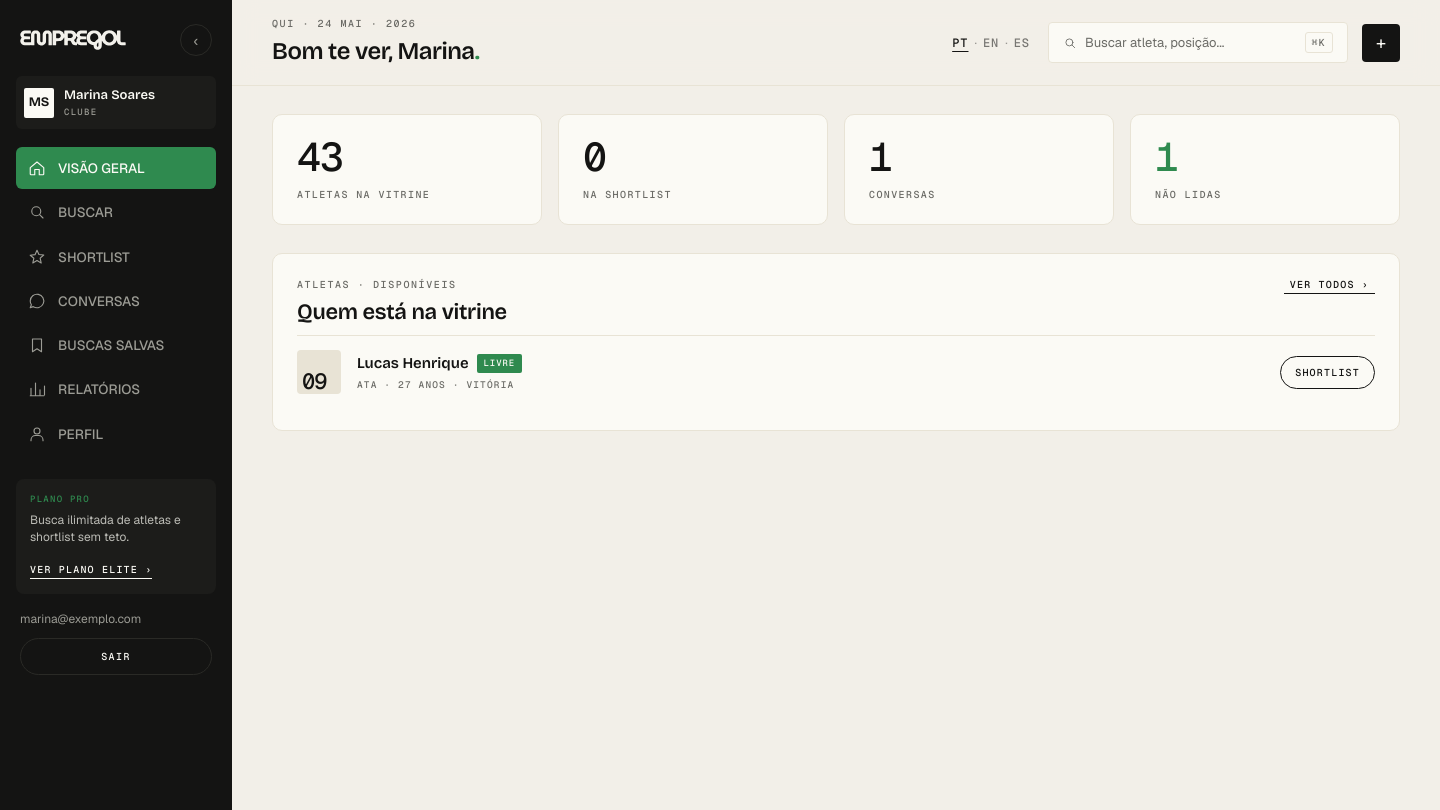
Test: DashboardPage › fecha o perfil pelo Esc
Click the button named "Abrir o perfil de Lucas Henrique" at {"x": 319, "y": 372}, box [297, 350, 1264, 394]
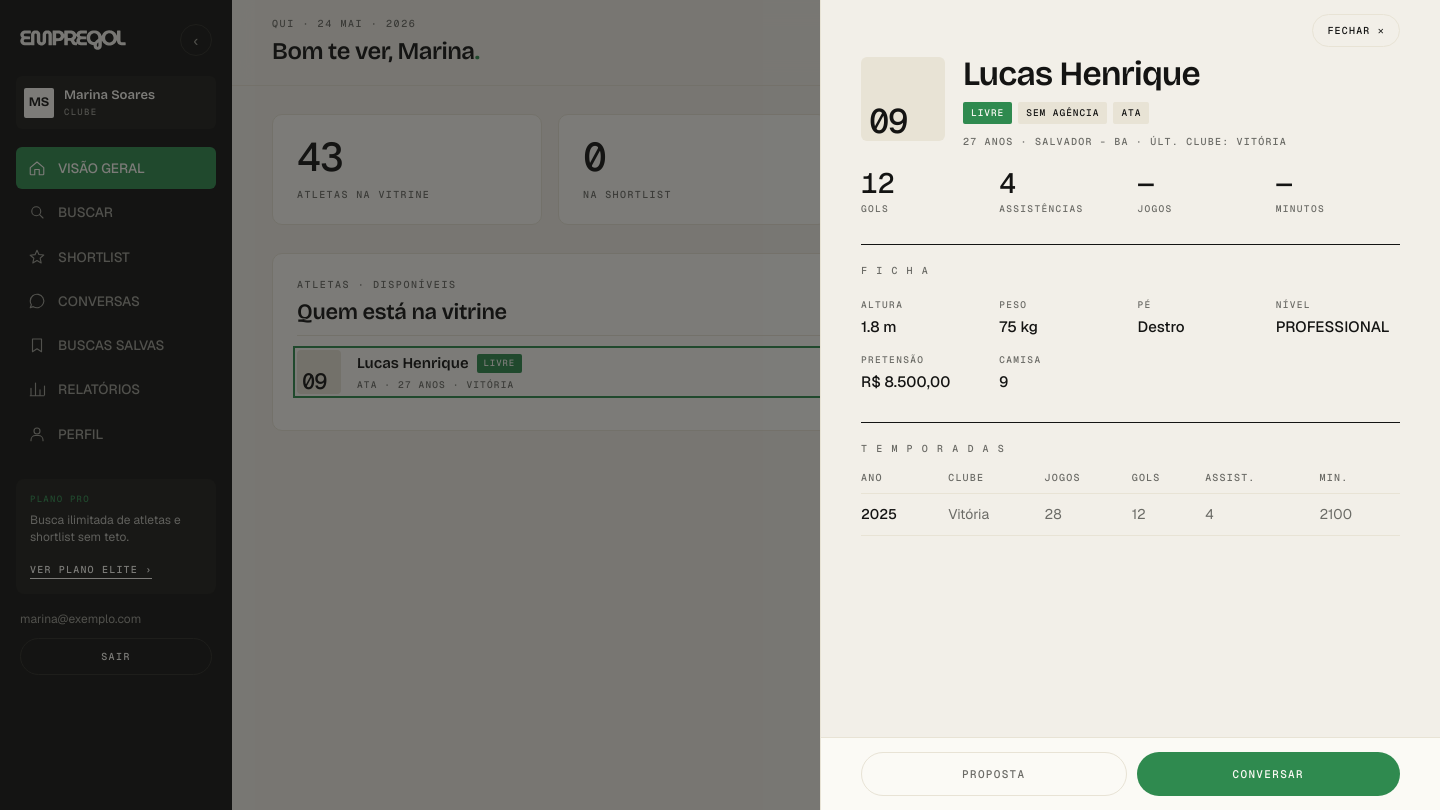
Now the dialog is shown
Press Escape
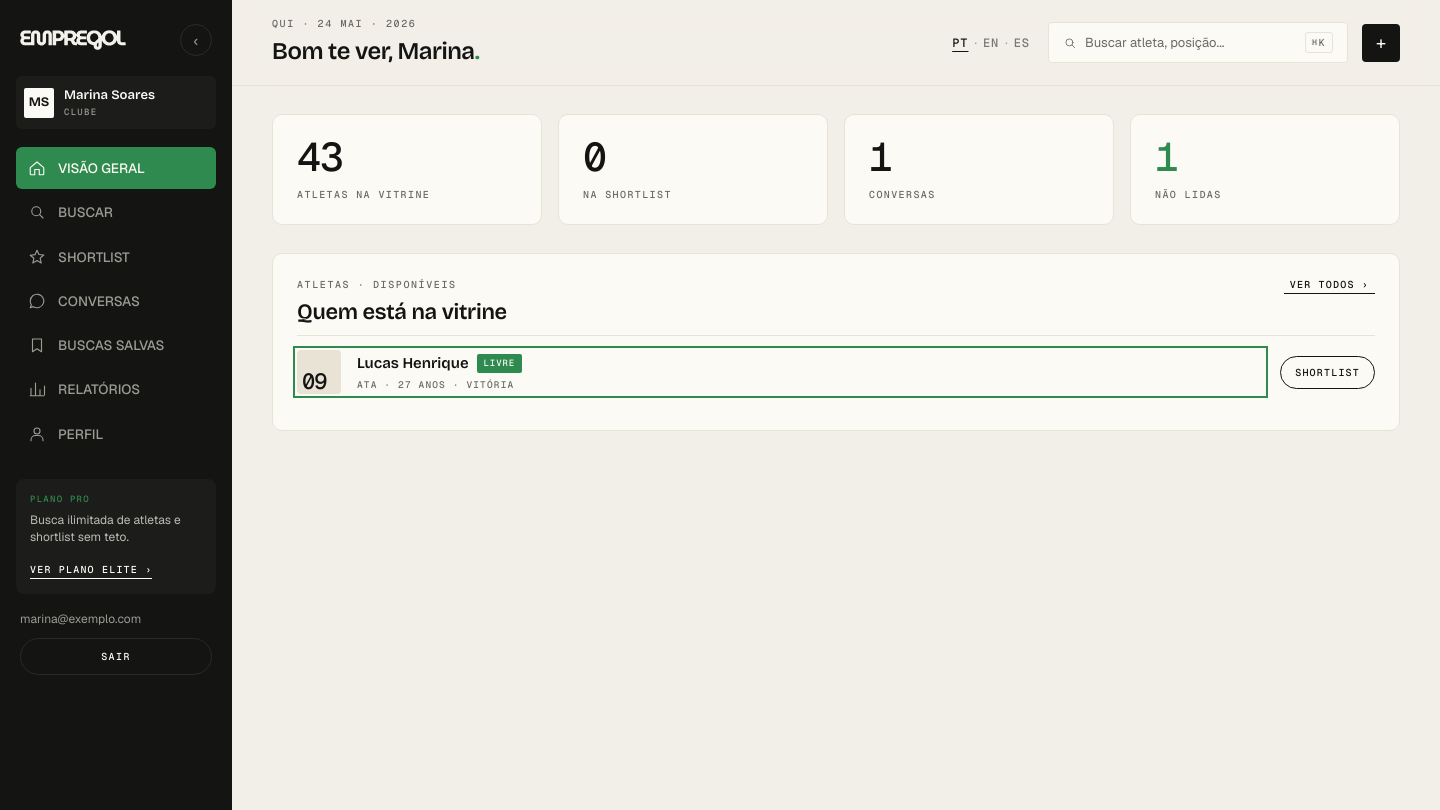
Now the dialog is gone
